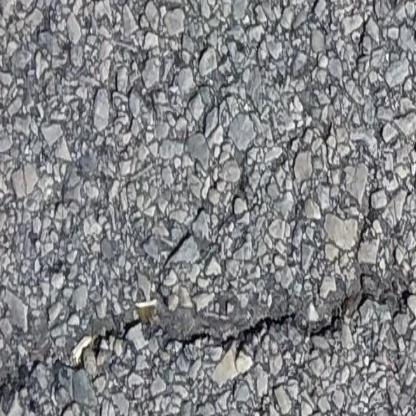Cracks: (0, 269, 416, 405)
